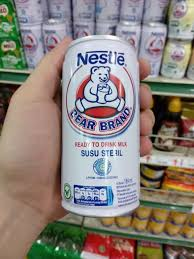Bear Brand Susu Steril (189ml): (58, 37, 140, 224), (142, 20, 163, 77), (19, 26, 42, 69)
